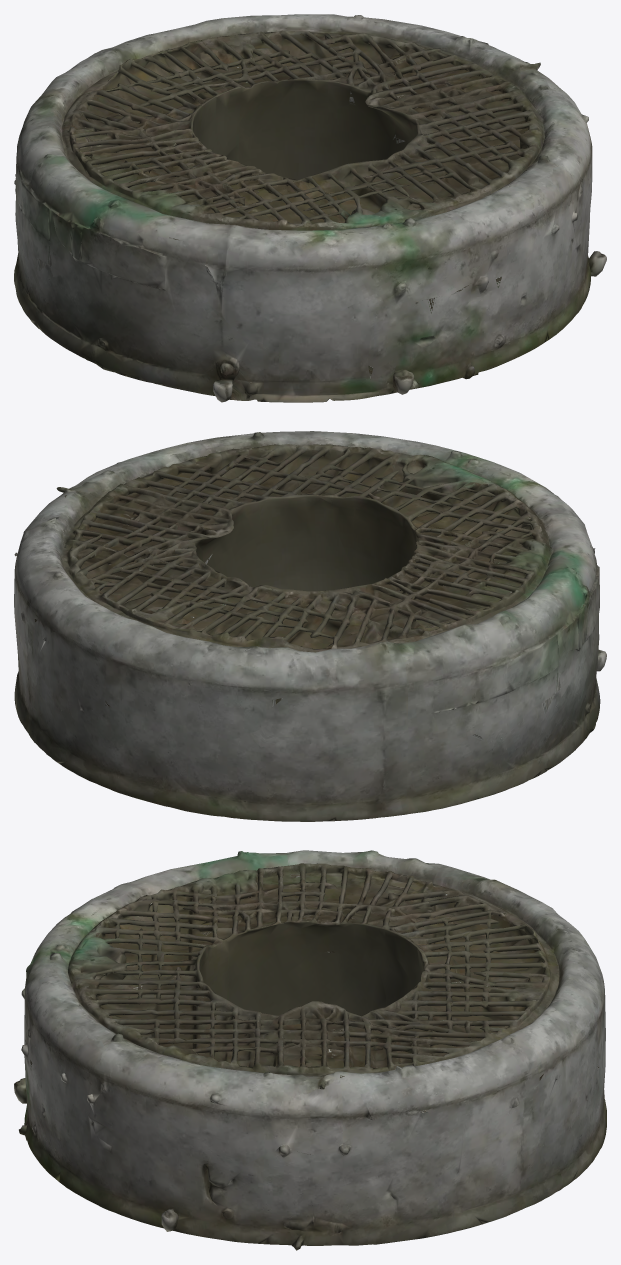
Rendered from toxic_drain.glb.
3 views of the same model, one above another, from view 1: azimuth 30°, elevation 25°; view 2: azimuth 150°, elevation 25°; view 3: azimuth 270°, elevation 25° (orthographic).
Visible parts, largest first — view 1: tripo_node_febd078d-1477-4533-9bfd-04a9d405b416; view 2: tripo_node_febd078d-1477-4533-9bfd-04a9d405b416; view 3: tripo_node_febd078d-1477-4533-9bfd-04a9d405b416.
Part boxes in pixels (x1,y1,x2,y2): tripo_node_febd078d-1477-4533-9bfd-04a9d405b416: (14,14,606,402); tripo_node_febd078d-1477-4533-9bfd-04a9d405b416: (14,431,606,821); tripo_node_febd078d-1477-4533-9bfd-04a9d405b416: (14,850,606,1250).
Bounding box in the file's own units: 0.9981 × 0.3045 × 0.9932.
1 material, 1 textured.
